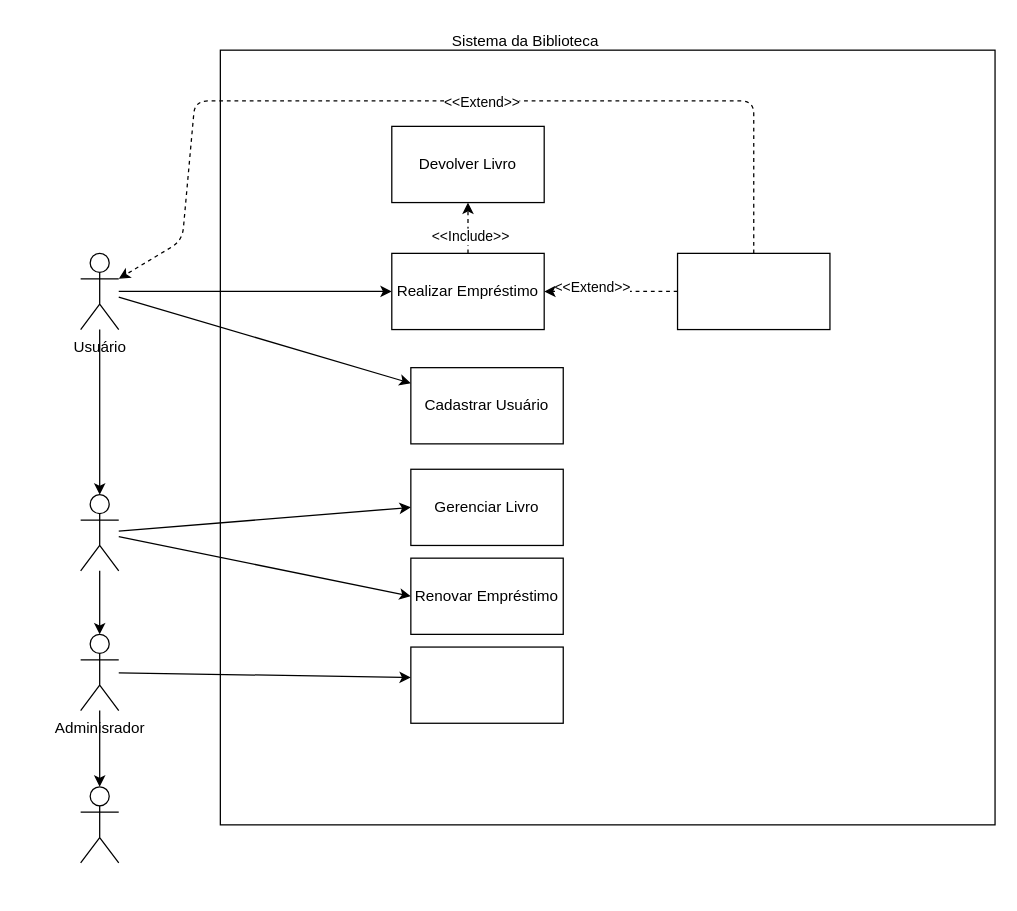
The diagram is 1017 pixels wide and 911 high, and some of its shapes have lost their labels. The shapes that lost their labels are listed below. From the top down, each one's centre as x and y in pixels, then its label:
At (753,291): "Pesquisar Livro".
At (99,532): "Bibliotecário".
At (486,684): "Gerar Relatório".
At (99,824): "Sistema de pagamento".
